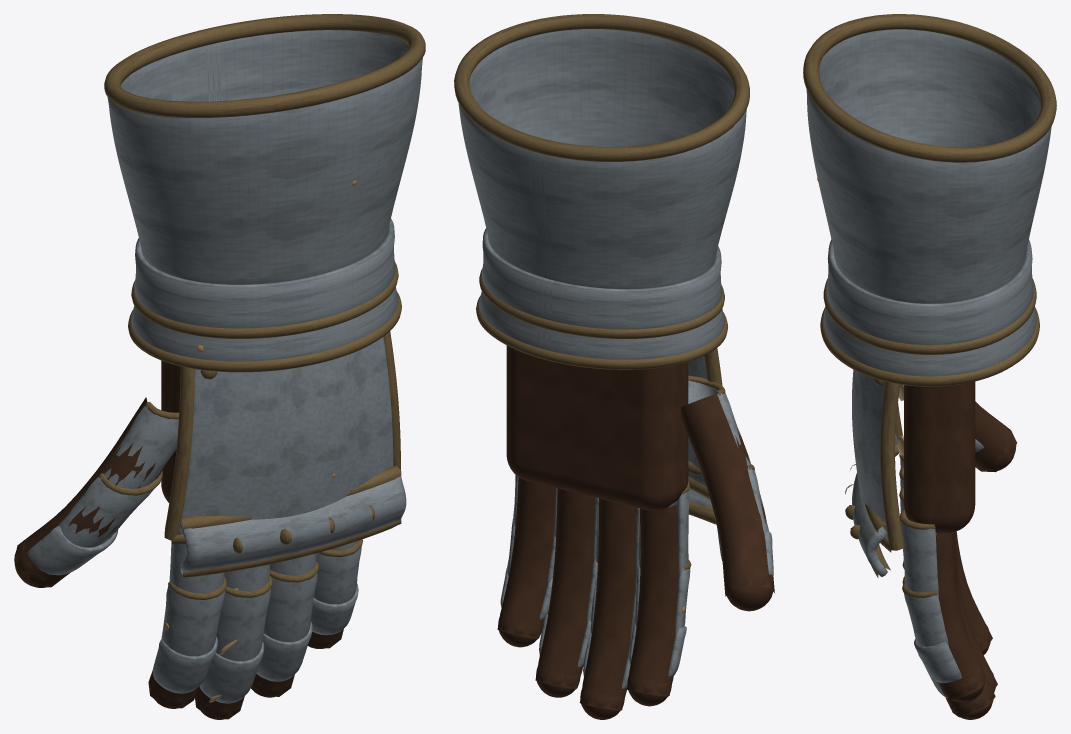
3 views of the same model, side by side, from view 1: azimuth 30°, elevation 25°; view 2: azimuth 150°, elevation 25°; view 3: azimuth 270°, elevation 25° (orthographic). The views are drawn at different scales.
Visible parts, largest first — view 1: hammered plate, aged alloy edge, tanned leather; view 2: hammered plate, tanned leather, aged alloy edge; view 3: hammered plate, aged alloy edge, tanned leather.
Part boxes in pixels (bbox=[...]): hammered plate: bbox=[27, 30, 422, 703]; aged alloy edge: bbox=[98, 14, 425, 599]; tanned leather: bbox=[14, 360, 343, 719]; hammered plate: bbox=[458, 29, 773, 688]; tanned leather: bbox=[497, 345, 774, 719]; aged alloy edge: bbox=[454, 14, 754, 570]; hammered plate: bbox=[806, 29, 1051, 698]; aged alloy edge: bbox=[803, 14, 1056, 597]; tanned leather: bbox=[904, 381, 1016, 719].
Bounding box in the file's own units: 0.1669 × 0.3032 × 0.1069.
5 materials, 3 textured.
